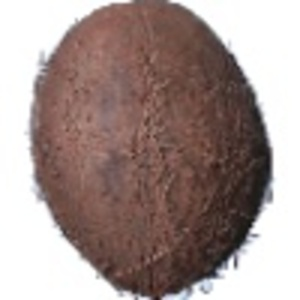coco: (31, 1, 274, 300)
